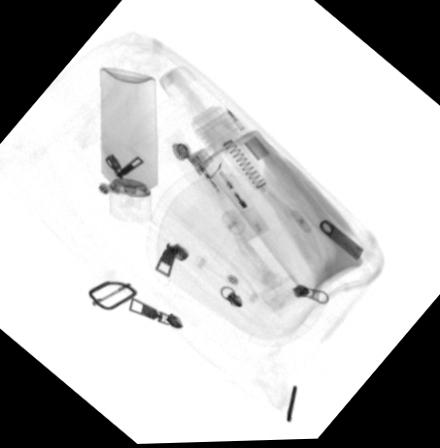Lighter: (186, 147, 268, 245)
Sprayer: (99, 66, 158, 223)
